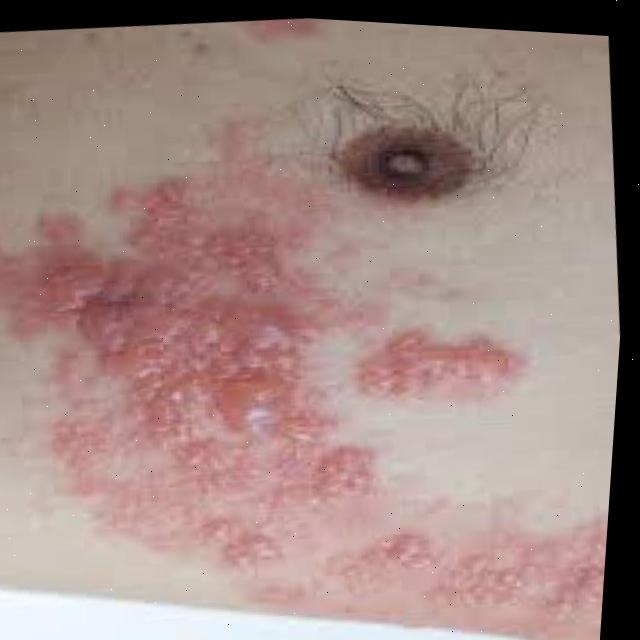Shingles: (0, 124, 632, 640)
